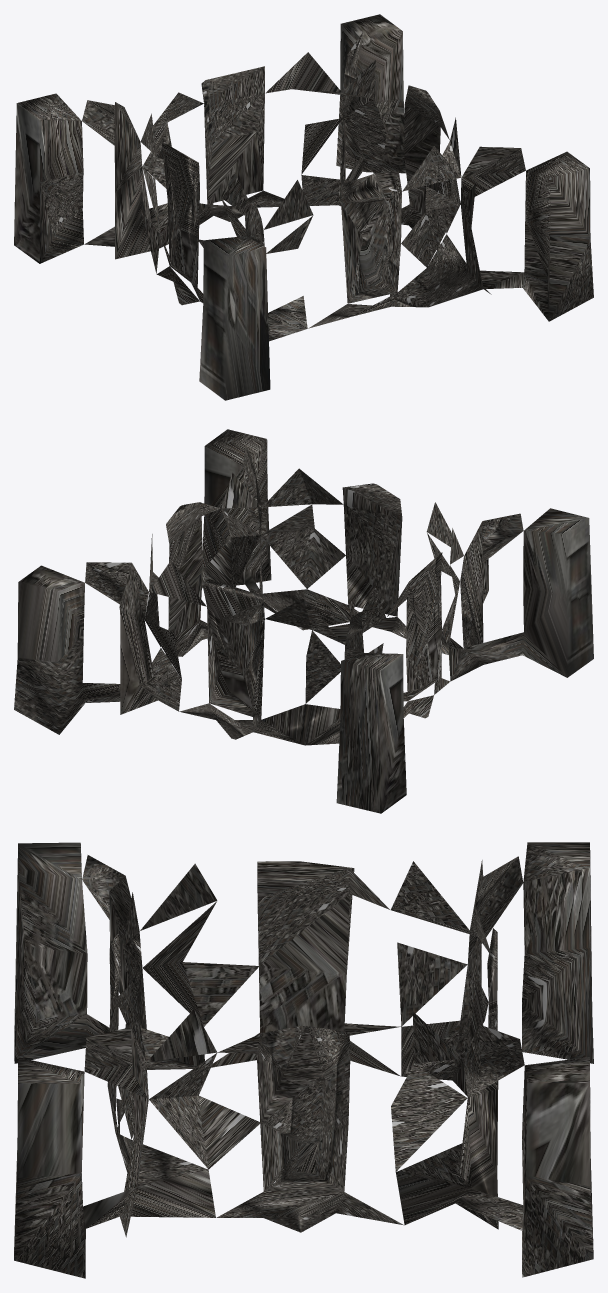
Rendered from fence.glb.
3 views of the same model, one above another, from view 1: azimuth 30°, elevation 25°; view 2: azimuth 150°, elevation 25°; view 3: azimuth 270°, elevation 25° (orthographic). The views are drawn at different scales.
Parts seen in each view (by area): view 1: fence; view 2: fence; view 3: fence.
Boxes of the visible parts, x1=… form: fence: x1=14, y1=14, x2=593, y2=400; fence: x1=14, y1=429, x2=593, y2=813; fence: x1=14, y1=842, x2=593, y2=1278.
Size of the model in its own units: 0.9888 by 0.4179 by 0.9881.
Materials: 1 (1 with a texture image).
